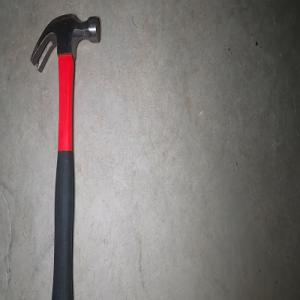Hammer: (29, 12, 100, 300)
